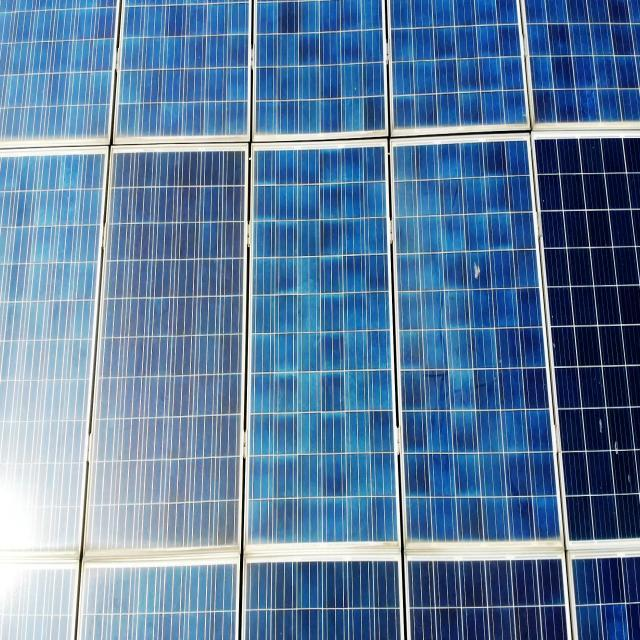faulty: (390, 139, 562, 549), (526, 130, 640, 550)
no faulty: (1, 2, 640, 133), (88, 142, 248, 562), (245, 142, 405, 556)
